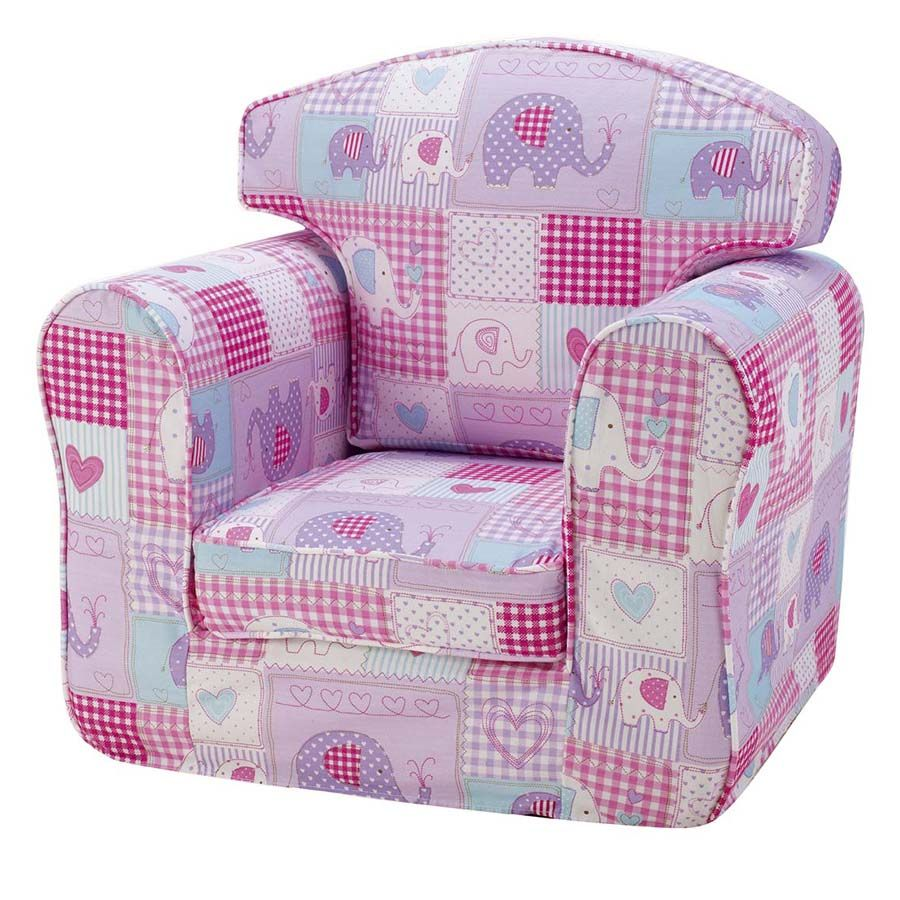chairs: (34, 37, 864, 828)
